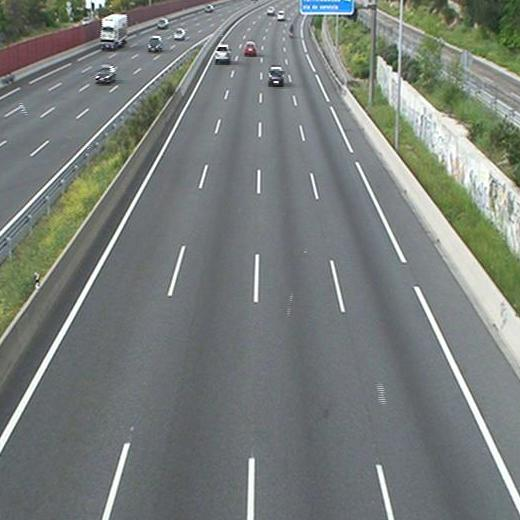car: (268, 65, 284, 85), (213, 45, 230, 61), (243, 42, 256, 54), (265, 6, 274, 15), (276, 11, 285, 19)
motorcycle: (287, 21, 296, 40)
